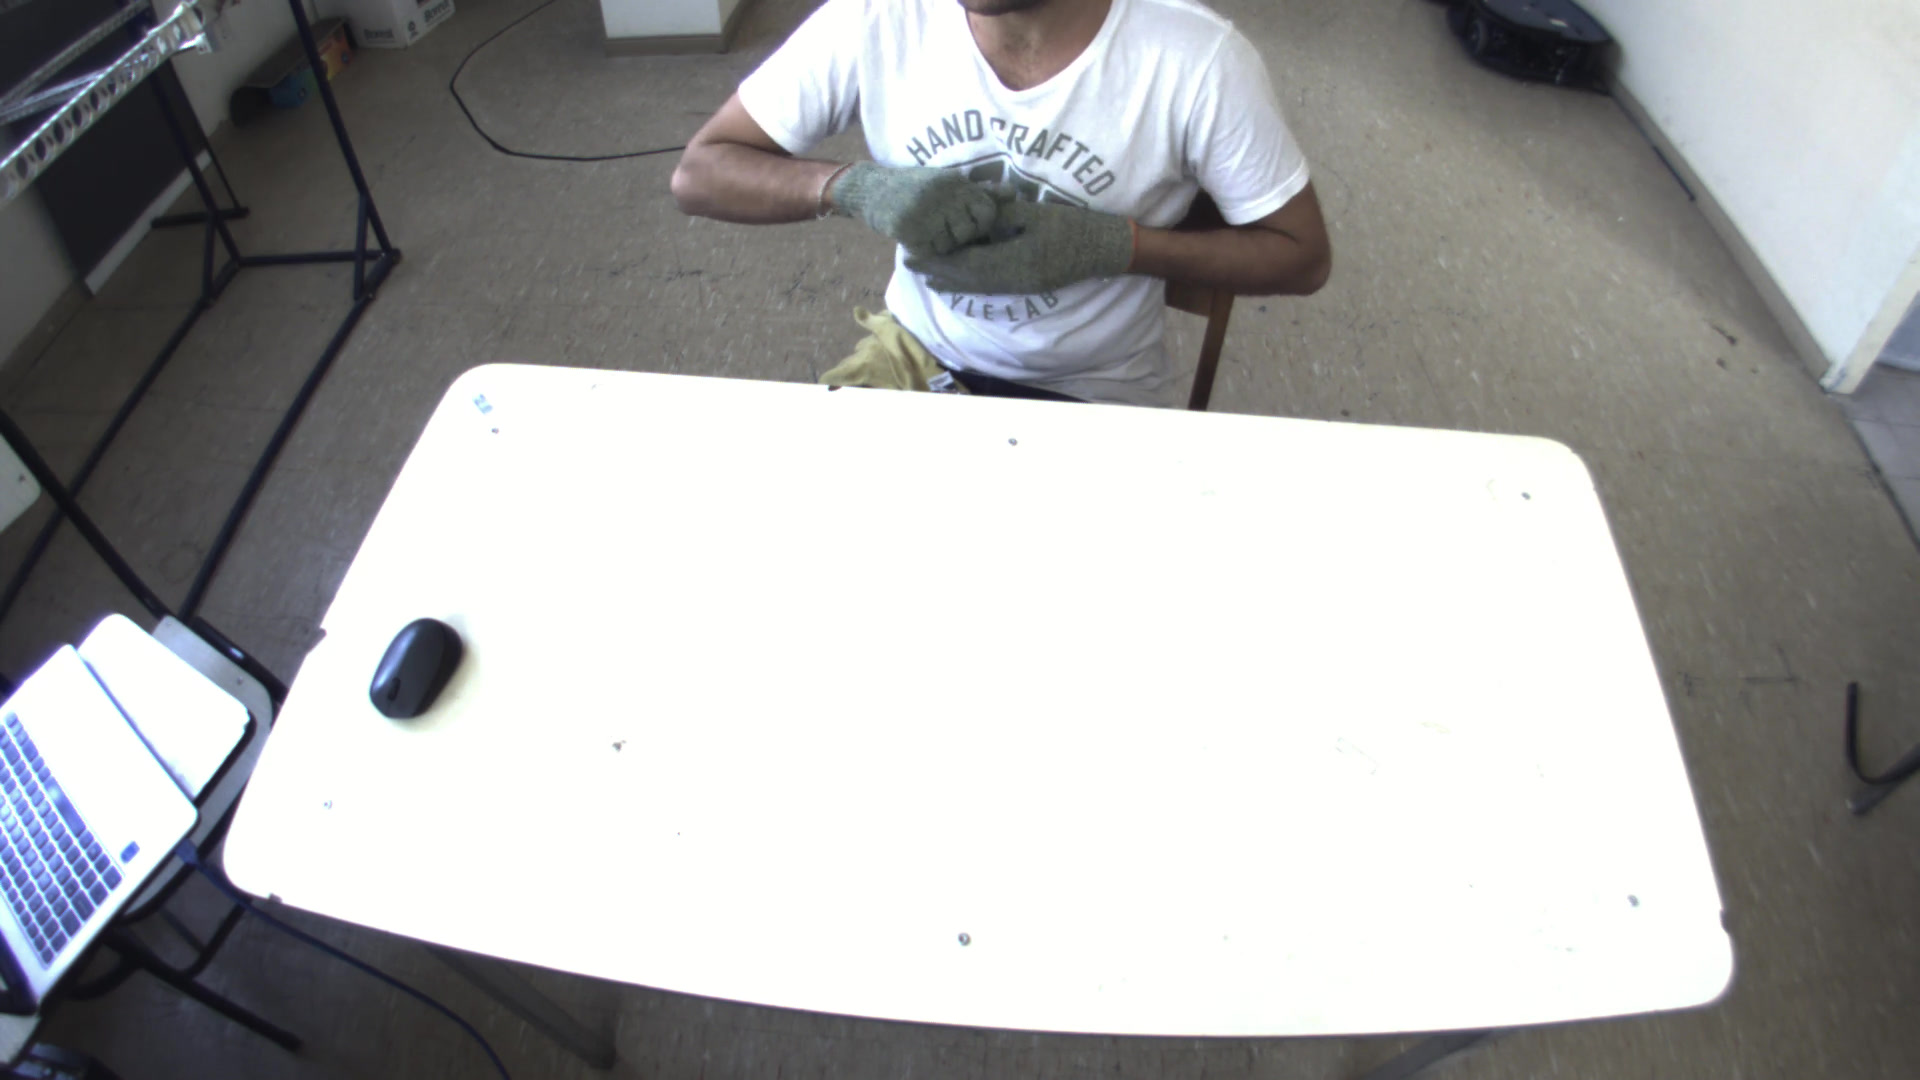hand: (928, 179, 1116, 307), (825, 156, 1025, 262)
